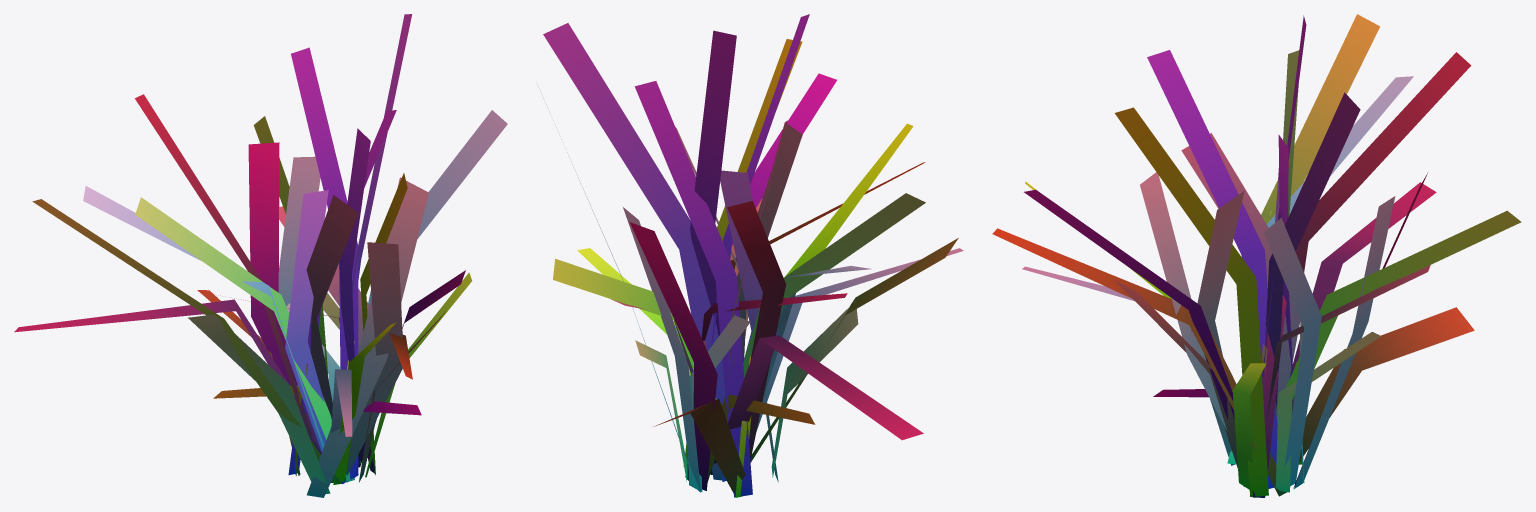
The model's file is Wild_Grass_sjliZ_Mid_sjliZ_VarB_LOD1.fbx.
3 renders of one model, left to right at view 1: azimuth 30°, elevation 25°; view 2: azimuth 150°, elevation 25°; view 3: azimuth 270°, elevation 25°, orthographic. The views are drawn at different scales.
Visible parts, largest first — view 1: _b6ae_VarB_LOD2; view 2: _b6ae_VarB_LOD2; view 3: _b6ae_VarB_LOD2.
Boxes of the visible parts, x1=… form: _b6ae_VarB_LOD2: x1=14, y1=14, x2=507, y2=497; _b6ae_VarB_LOD2: x1=537, y1=14, x2=963, y2=497; _b6ae_VarB_LOD2: x1=992, y1=14, x2=1521, y2=497.
Bounding box in the file's own units: 52.46 × 49.79 × 52.85.
